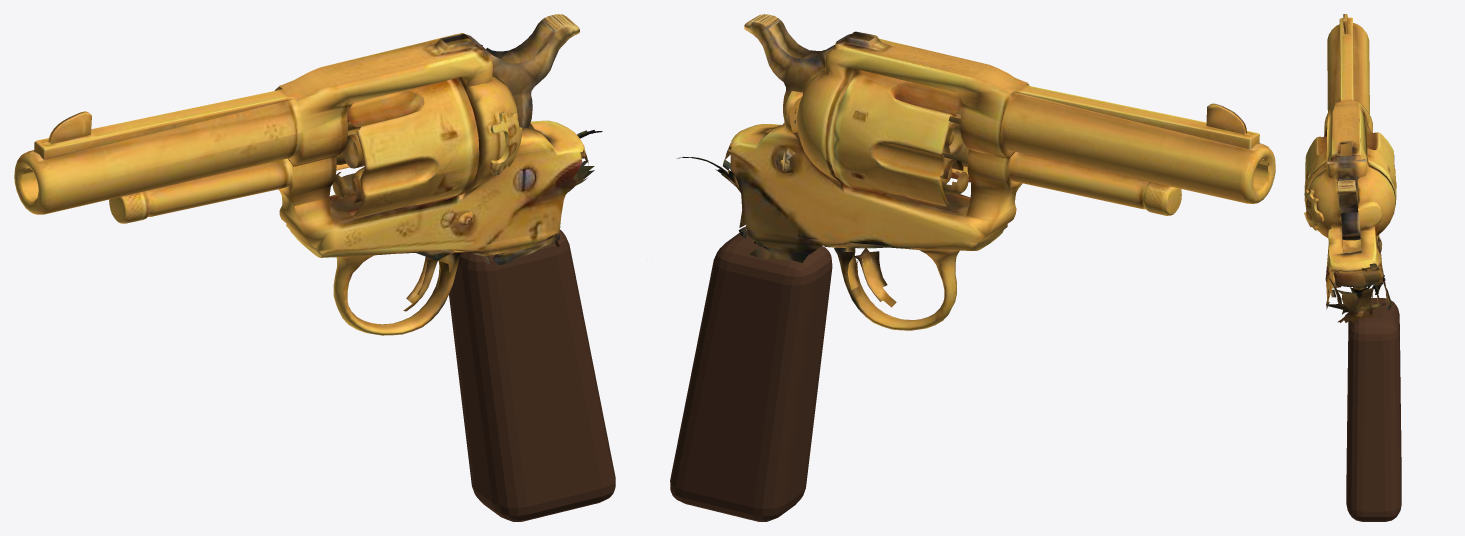
The model's file is golden_revolver_gun.glb.
3 views of the same model, side by side, from view 1: azimuth 30°, elevation 25°; view 2: azimuth 150°, elevation 25°; view 3: azimuth 270°, elevation 25° (orthographic). The views are drawn at different scales.
Visible parts, largest first — view 1: tripo_node_50391654-229d-47d3-b9c1-fcfc0a4c60e9, WalnutGrip; view 2: tripo_node_50391654-229d-47d3-b9c1-fcfc0a4c60e9, WalnutGrip; view 3: tripo_node_50391654-229d-47d3-b9c1-fcfc0a4c60e9, WalnutGrip.
Part boxes in pixels (x1,y1,x2,y2): tripo_node_50391654-229d-47d3-b9c1-fcfc0a4c60e9: (14, 14, 602, 335); WalnutGrip: (449, 229, 615, 521); tripo_node_50391654-229d-47d3-b9c1-fcfc0a4c60e9: (677, 14, 1275, 330); WalnutGrip: (670, 230, 832, 521); tripo_node_50391654-229d-47d3-b9c1-fcfc0a4c60e9: (1304, 14, 1396, 322); WalnutGrip: (1346, 298, 1401, 521).
Size of the model in its own units: 0.5423 by 0.4556 by 0.1783.
2 materials, 1 textured.
